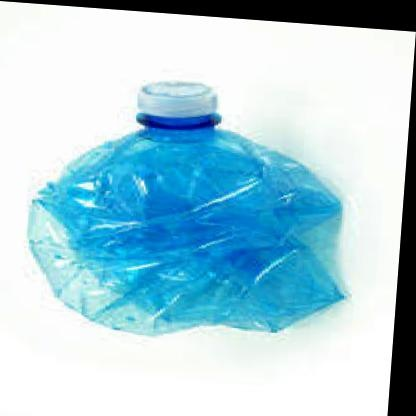trash: (29, 81, 343, 334)
